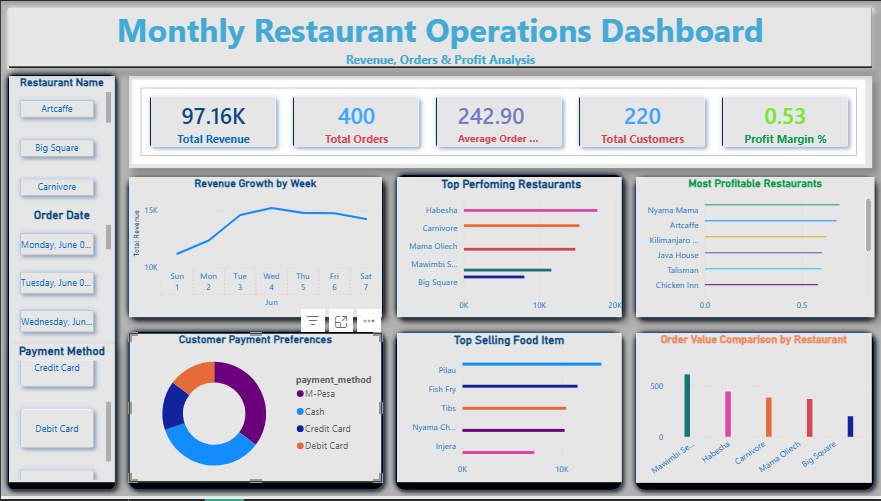

The page's visual inventory and layout, read from the dashboard file:
{"tool":"powerbi","page":{"name":"Page 1","canvas":[1280,720],"ordinal":0},"visuals":[{"type":"shape","box":[0,0,1279.8,108.7],"z":0},{"type":"cardVisual","fields":{"Data":["cost.Total Revenue","cost.Total Orders","cost.Average Order Value","Date.Total Customers","cost.Profit Margin %"]},"box":[186.2,109.1,1080.7,133.8],"z":1000},{"type":"shape","box":[176,248.7,389.8,222.5],"z":2000},{"type":"lineChart","title":"Revenue Growth by Week","fields":{"Category":["Date.Month Name","Date.Weekday","Date.Weekday Name"],"Y":["cost.Total Revenue"]},"box":[186.2,256,368,203.6],"z":3000},{"type":"shape","box":[565.3,242.9,348.4,228.4],"z":4000},{"type":"clusteredBarChart","title":"Top Perfoming Restaurants","fields":{"Category":["orders.restaurant_name"],"Y":["cost.Total Revenue"],"Series":["restaurants.restaurant_name"]},"box":[575.4,255.9,326.7,203.9],"z":5000},{"type":"shape","box":[0,97.5,176,622.5],"z":5001},{"type":"advancedSlicerVisual","title":"Restaurant Name","fields":{"Values":["restaurants.restaurant_name"]},"box":[11.6,109.1,154.2,192],"z":5003},{"type":"advancedSlicerVisual","title":"Order Date","fields":{"Values":["orders.order_date"]},"box":[11.6,301.1,154.2,197.8],"z":5004},{"type":"shape","box":[913.7,248.7,365.8,222.7],"z":5005},{"type":"clusteredBarChart","title":"Most Profitable Restaurants","fields":{"Category":["restaurants.restaurant_name"],"Y":["cost.Profit Margin %"],"Series":["restaurants.restaurant_name"]},"box":[923.9,255.9,347,203.9],"z":5006},{"type":"shape","box":[176,471.3,389.8,248.7],"z":5007},{"type":"donutChart","title":"Customer Payment Preferences","fields":{"Category":["orders.payment_method"],"Y":["Sum(orders.order_id)"]},"box":[186.2,482.9,368,216.7],"z":5008},{"type":"textbox","title":"Monthly Restaurant Operations Dashboard","box":[11.6,10.2,1255.3,87.3],"z":5009},{"type":"shape","box":[565,472,348,248],"z":5010},{"type":"clusteredBarChart","title":"Top Selling Food Item","fields":{"Category":["food_items.food_item"],"Y":["cost.Total Revenue"],"Series":["food_items.food_item"]},"box":[575.4,482.9,326.7,216.9],"z":5011},{"type":"shape","box":[914,472,366,248],"z":5012},{"type":"clusteredColumnChart","title":"Order Value Comparison by Restaurant","fields":{"Y":["cost.Average Order Value"],"Category":["restaurants.restaurant_name"],"Series":["restaurants.restaurant_name"]},"box":[924,482.4,342.9,217.9],"z":5013},{"type":"advancedSlicerVisual","title":"Payment Method","fields":{"Values":["orders.payment_method"]},"box":[11.6,498.9,154.2,200.7],"z":5014}]}

Visuals, with their boxes in screenshot pixels (x1, y1, x2, y2), scaled from the page's 1280x720 canvas onto the 881x501 screenshot:
shape: (left=0, top=0, right=880, bottom=76)
cardVisual - cost.Total Revenue x cost.Total Orders: (left=128, top=76, right=872, bottom=169)
shape: (left=121, top=173, right=389, bottom=328)
"Revenue Growth by Week" lineChart: (left=128, top=178, right=381, bottom=320)
shape: (left=389, top=169, right=629, bottom=328)
"Top Perfoming Restaurants" clusteredBarChart: (left=396, top=178, right=621, bottom=320)
shape: (left=0, top=68, right=121, bottom=500)
"Restaurant Name" advancedSlicerVisual: (left=8, top=76, right=114, bottom=210)
"Order Date" advancedSlicerVisual: (left=8, top=210, right=114, bottom=347)
shape: (left=629, top=173, right=880, bottom=328)
"Most Profitable Restaurants" clusteredBarChart: (left=636, top=178, right=875, bottom=320)
shape: (left=121, top=328, right=389, bottom=500)
"Customer Payment Preferences" donutChart: (left=128, top=336, right=381, bottom=487)
"Monthly Restaurant Operations Dashboard" textbox: (left=8, top=7, right=872, bottom=68)
shape: (left=389, top=328, right=628, bottom=500)
"Top Selling Food Item" clusteredBarChart: (left=396, top=336, right=621, bottom=487)
shape: (left=629, top=328, right=880, bottom=500)
"Order Value Comparison by Restaurant" clusteredColumnChart: (left=636, top=336, right=872, bottom=487)
"Payment Method" advancedSlicerVisual: (left=8, top=347, right=114, bottom=487)
